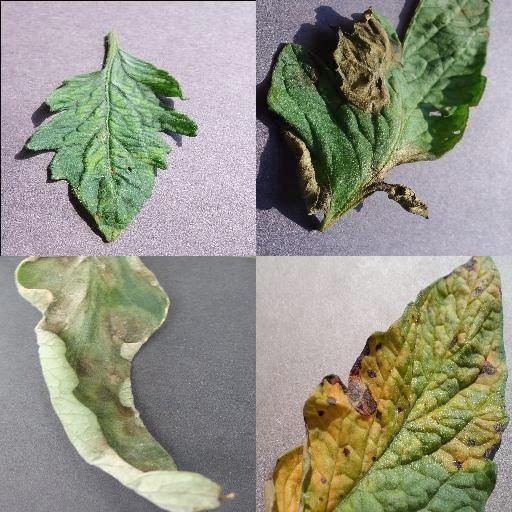Early Blight: (270, 256, 508, 512)
Late Blight: (16, 256, 236, 512), (266, 0, 492, 228)
Mosaic Virus: (25, 49, 199, 245)
